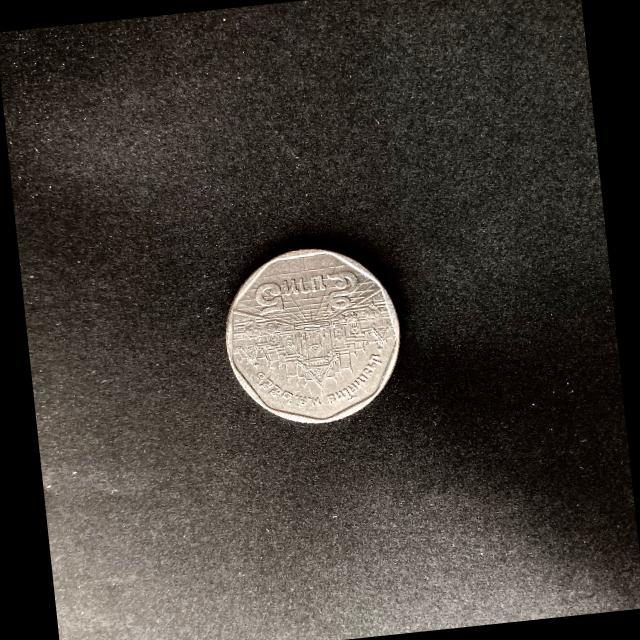5 Bath: (224, 248, 403, 427)
